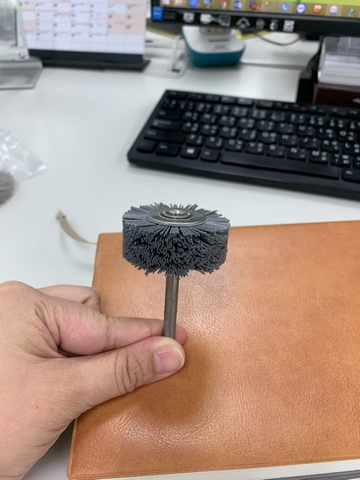Wheel Brush: (118, 191, 233, 311), (120, 198, 230, 309)
